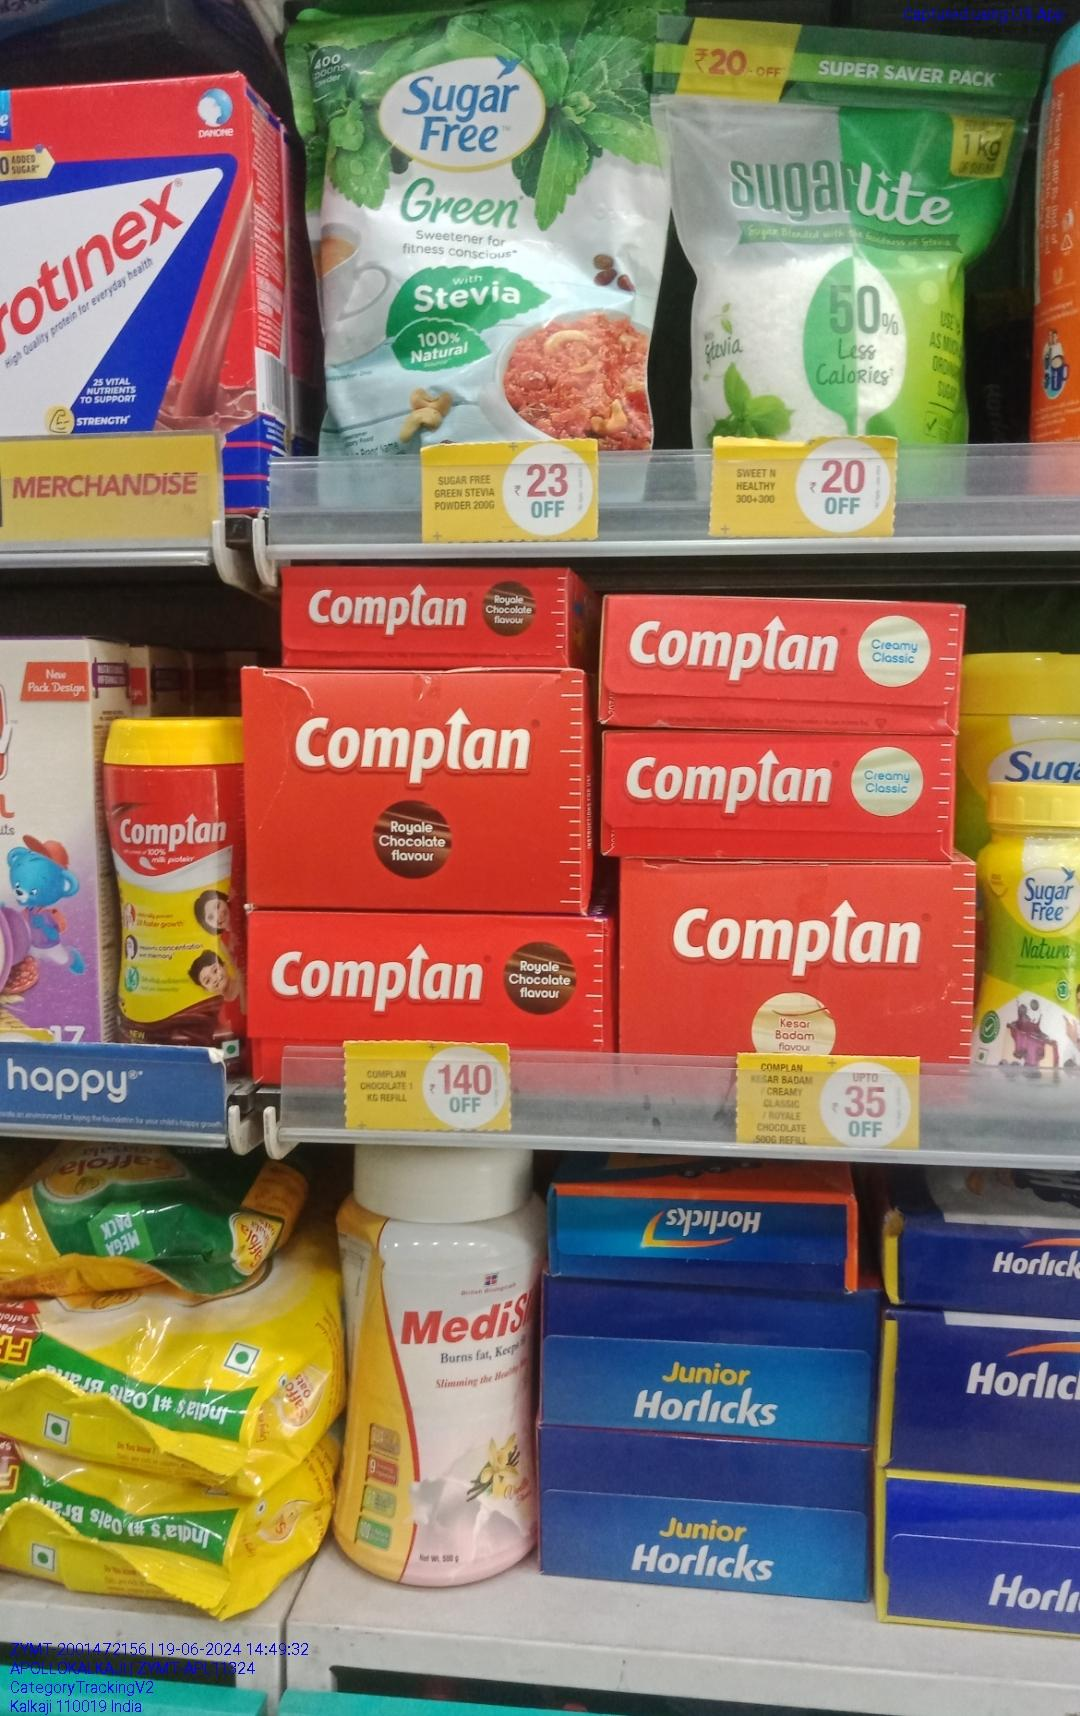COMPLAN_CHOCOLATE_200_GMS_JAR: (106, 724, 231, 1035)
